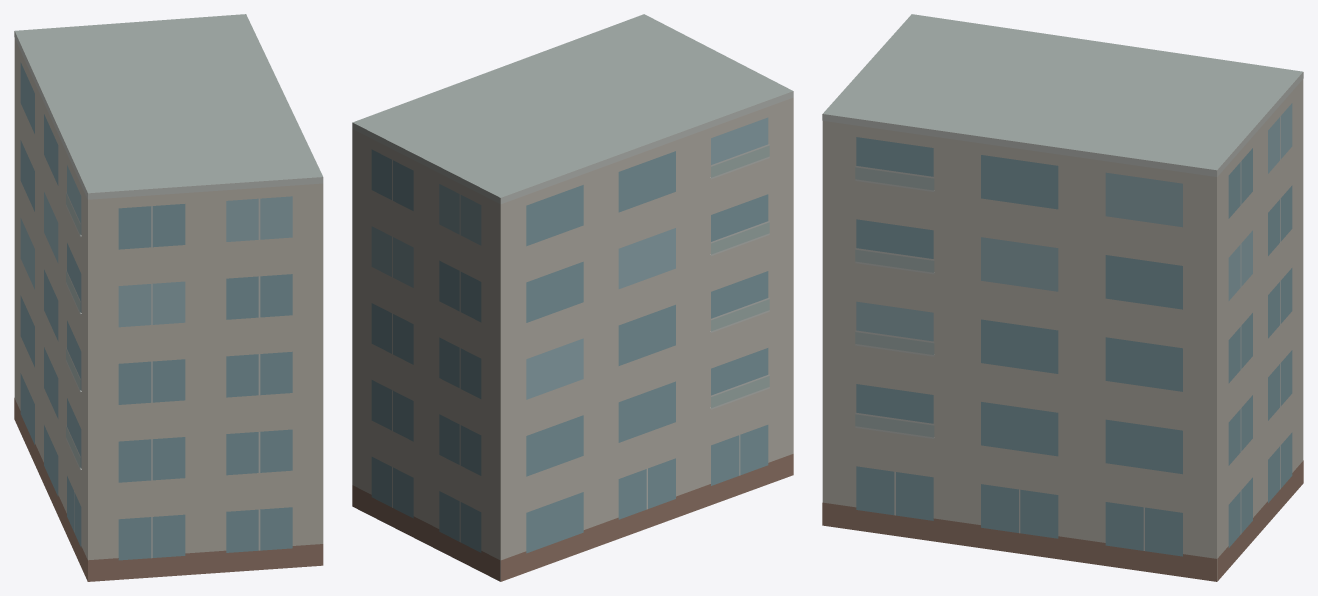
Rendered from survey-upis-32886853.glb.
3 renders of one model, left to right at view 1: azimuth 30°, elevation 25°; view 2: azimuth 150°, elevation 25°; view 3: azimuth 270°, elevation 25°, orthographic. The views are drawn at different scales.
Visible parts, largest first — view 1: survey-upis-32886853.tmp; view 2: survey-upis-32886853.tmp; view 3: survey-upis-32886853.tmp.
Part boxes in pixels (x1,y1,x2,y2): survey-upis-32886853.tmp: (14, 14, 323, 581); survey-upis-32886853.tmp: (352, 14, 793, 581); survey-upis-32886853.tmp: (822, 14, 1303, 581).
Bounding box in the file's own units: 11.86 × 14.55 × 15.42.
